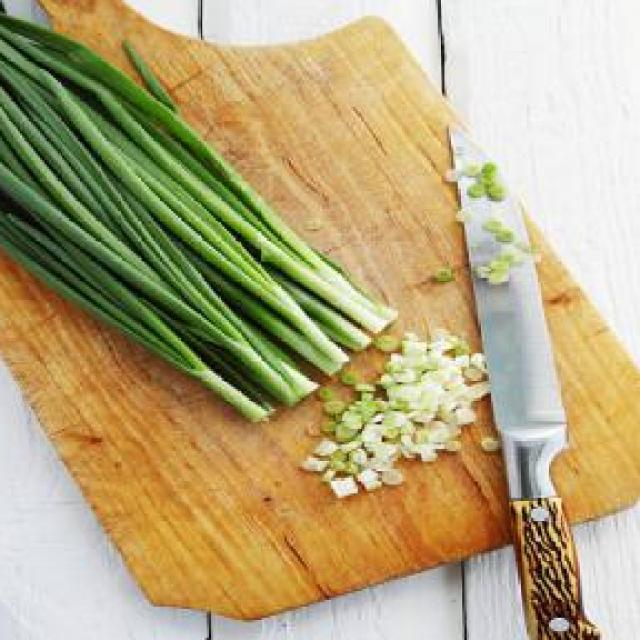knife: (440, 118, 611, 640)
